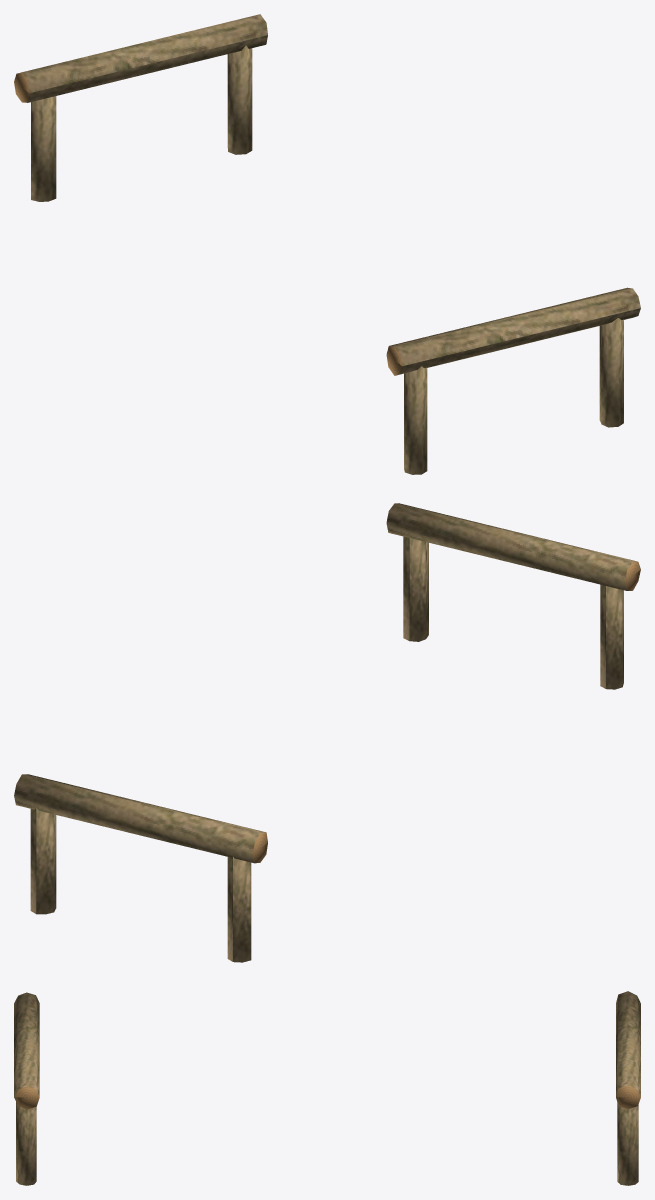
Rendered from road-bridge-posts.glb.
The picture shows the model from 3 angles, top to bottom: view 1: azimuth 30°, elevation 25°; view 2: azimuth 150°, elevation 25°; view 3: azimuth 270°, elevation 25°; orthographic projection. The views are drawn at different scales.
Visible parts, largest first — view 1: road-bridge-posts; view 2: road-bridge-posts; view 3: road-bridge-posts.
Part boxes in pixels (x1,y1,x2,y2): road-bridge-posts: [14, 14, 640, 474]; road-bridge-posts: [14, 503, 640, 962]; road-bridge-posts: [14, 991, 640, 1185].
Bounding box in the file's own units: 1.7 × 0.885 × 4.8.
Materials: 1 (1 with a texture image).
